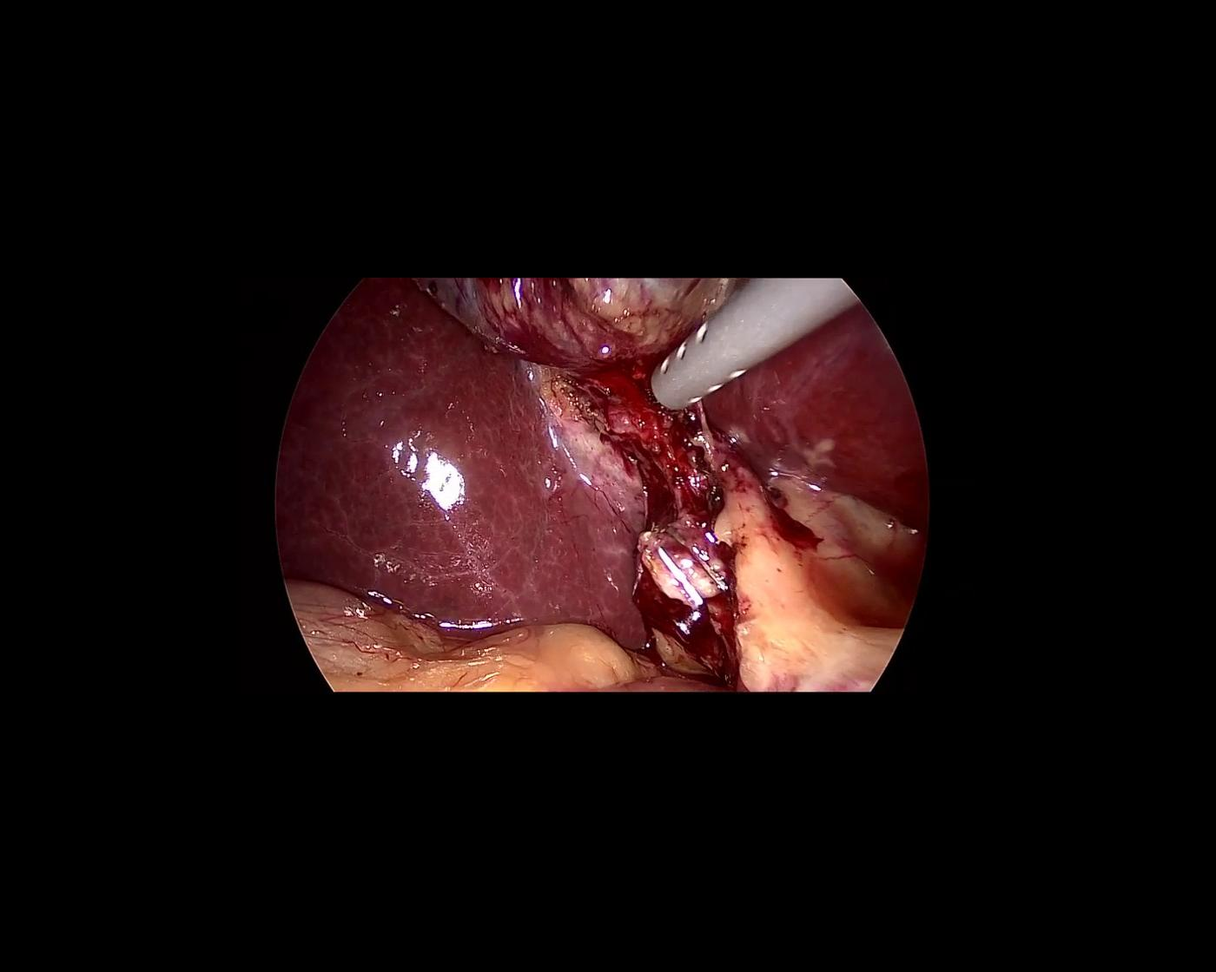Gallbladder: (417, 278, 748, 364)
Liver: (264, 267, 682, 654), (691, 306, 969, 597)
Suction: (632, 236, 861, 418)
